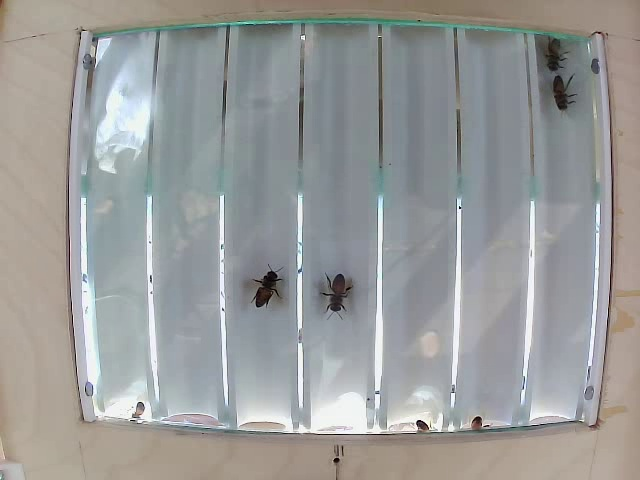bee: (243, 260, 293, 327), (315, 265, 352, 323), (545, 70, 578, 121), (543, 31, 564, 72)
